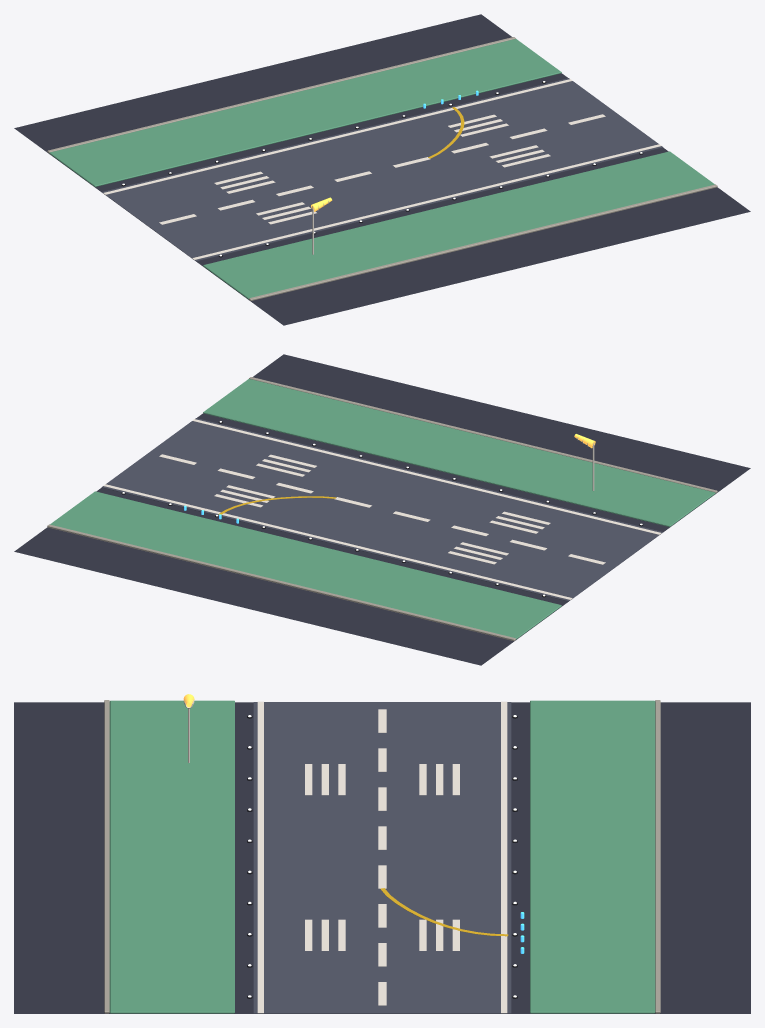
Rendered from tile_runway.glb.
3 renders of one model, top to bottom at view 1: azimuth 30°, elevation 25°; view 2: azimuth 150°, elevation 25°; view 3: azimuth 270°, elevation 25°, orthographic. The views are drawn at different scales.
Parts seen in each view (by area): view 1: tile_runway; view 2: tile_runway; view 3: tile_runway.
Boxes of the visible parts, x1,y1,x2,y2 form: tile_runway: (14,14,750,325); tile_runway: (14,354,750,665); tile_runway: (14,694,750,1013).
Bounding box in the file's own units: 40 × 4.43 × 40.
1 material, 1 textured.
